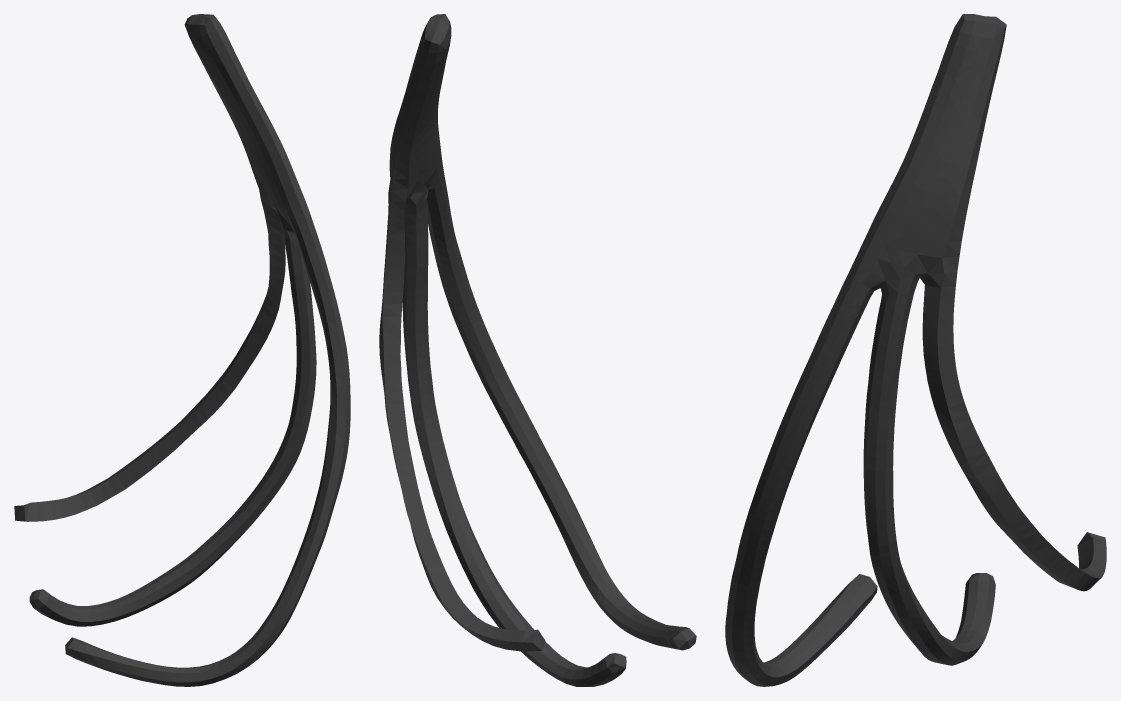
File: sphinc_colli_profundus.glb
3 renders of one model, left to right at view 1: azimuth 30°, elevation 25°; view 2: azimuth 150°, elevation 25°; view 3: azimuth 270°, elevation 25°, orthographic. The views are drawn at different scales.
Visible parts, largest first — view 1: sphinc_colli_profundus; view 2: sphinc_colli_profundus; view 3: sphinc_colli_profundus.
Part boxes in pixels (<box>): sphinc_colli_profundus: <box>14,14,350,686</box>; sphinc_colli_profundus: <box>379,14,696,686</box>; sphinc_colli_profundus: <box>725,14,1106,686</box>.
Bounding box in the file's own units: 0.4269 × 0.9412 × 0.4518.
Materials: 1 (1 with a texture image).
